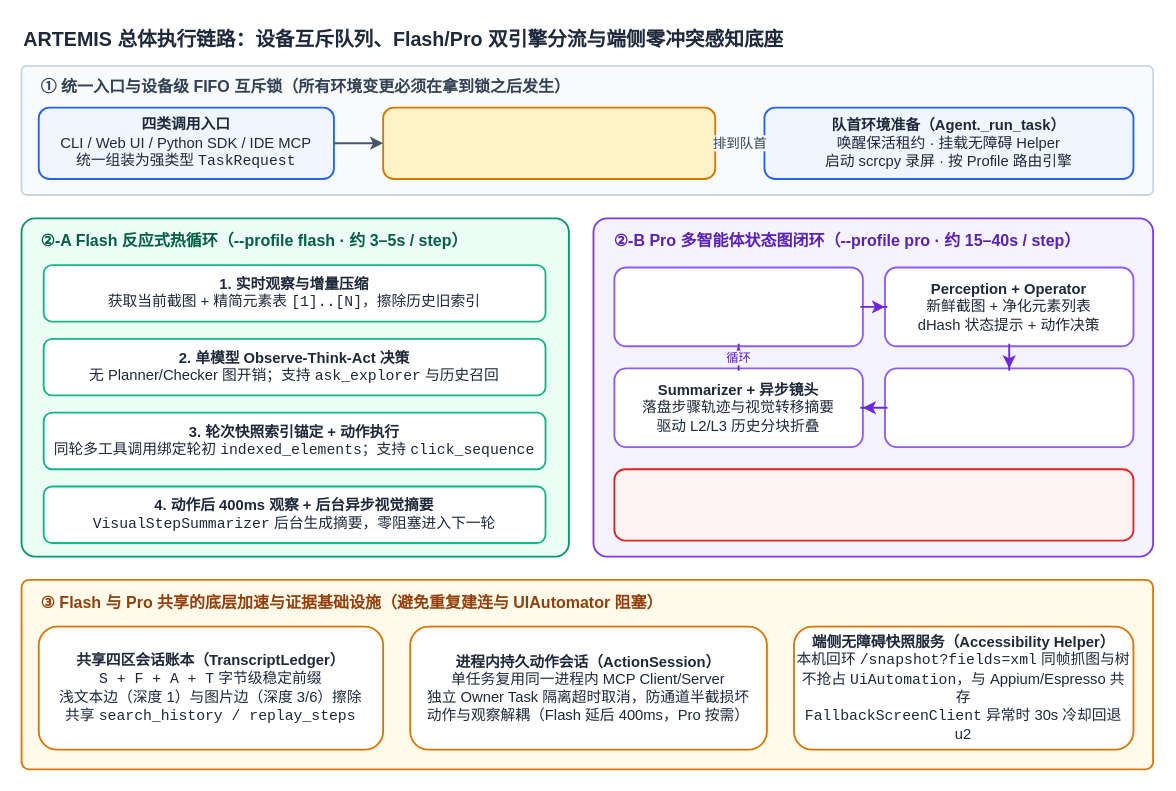
This 1176x791 diagram has some shape labels left out. The centre of each missing label's shape, as x and y in pixels:
Checker + exit_settlement（只读独立复核） 中途异步校验 EvidenceAnchor ，退出前对照原始目标终审实时屏幕: (x=873, y=504)
Daemon 队列与 DeviceExecutionLock 按 device_serial 严格 FIFO 排队 多机并发互不阻塞，单机严禁交叉污染: (x=549, y=142)
Planner + Convergence 维护 task_plan 语法树 [ ] [/] [x] 与 verify/assert: (x=738, y=306)
Validator + Safety Net 单动作 XML/像素预检与自愈 多动作 Burst · 失败建 Incident: (x=1009, y=407)
